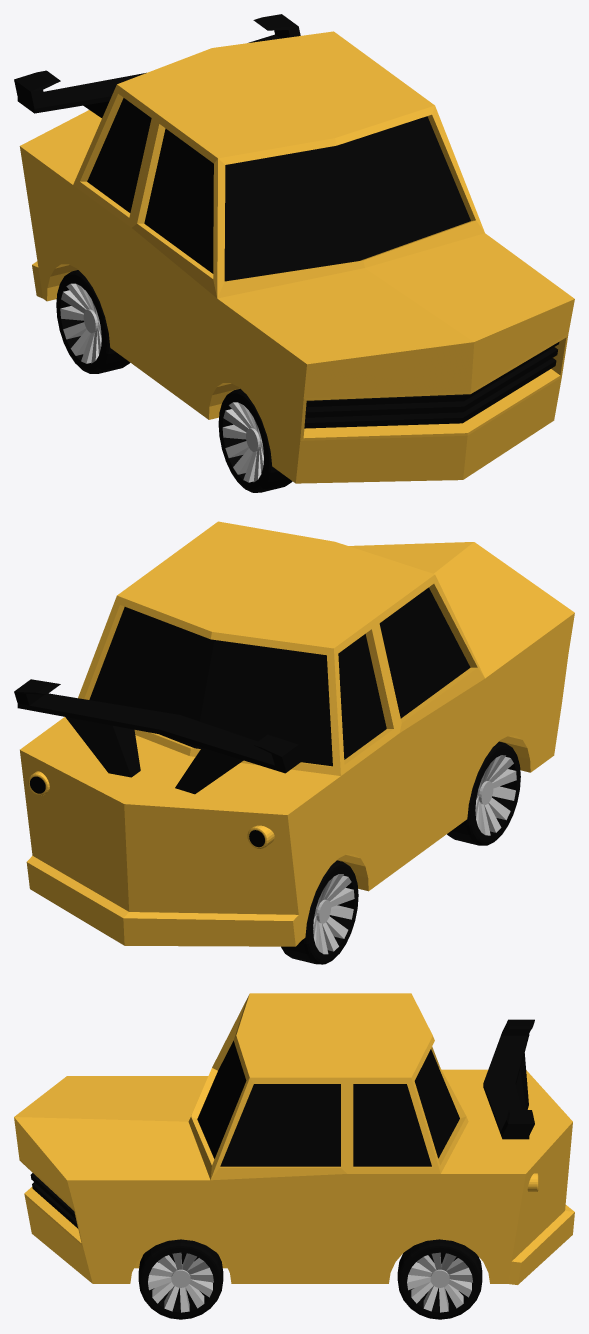
The model's file is LowPolyCar.fbx.
3 renders of one model, top to bottom at view 1: azimuth 30°, elevation 25°; view 2: azimuth 150°, elevation 25°; view 3: azimuth 270°, elevation 25°, orthographic. The views are drawn at different scales.
Visible parts, largest first — view 1: Car, Rear Right Wheel, Front Right Wheel; view 2: Car, Rear Right Wheel, Front Right Wheel; view 3: Car, Front Left Wheel, Rear Left Wheel.
Part boxes in pixels (x1,y1,x2,y2): Car: (14,14,574,483); Rear Right Wheel: (56,270,130,373); Front Right Wheel: (218,388,292,492); Car: (14,521,574,946); Rear Right Wheel: (281,860,358,964); Front Right Wheel: (447,741,520,845); Car: (14,993,574,1284); Front Left Wheel: (138,1239,223,1319); Rear Left Wheel: (397,1239,482,1319).
Bounding box in the file's own units: 400 × 423 × 909.
